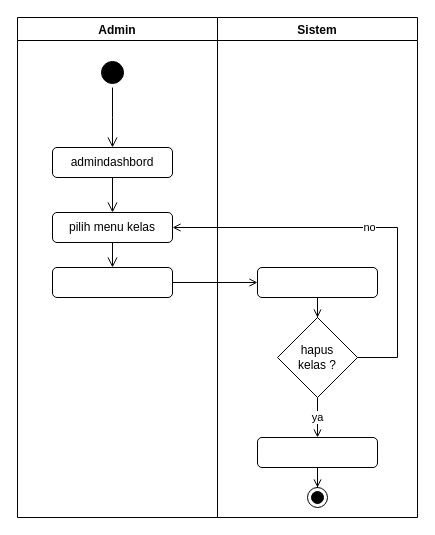
This 435x535 diagram has some shape labels left out. Here are the shapes that lost their labels. From the top down, the centre of each, then its label:
At point (112, 282): "pilih kelas hapus".
At point (317, 282): "get id kelas".
At point (317, 452): "berhasil edit kelas".
